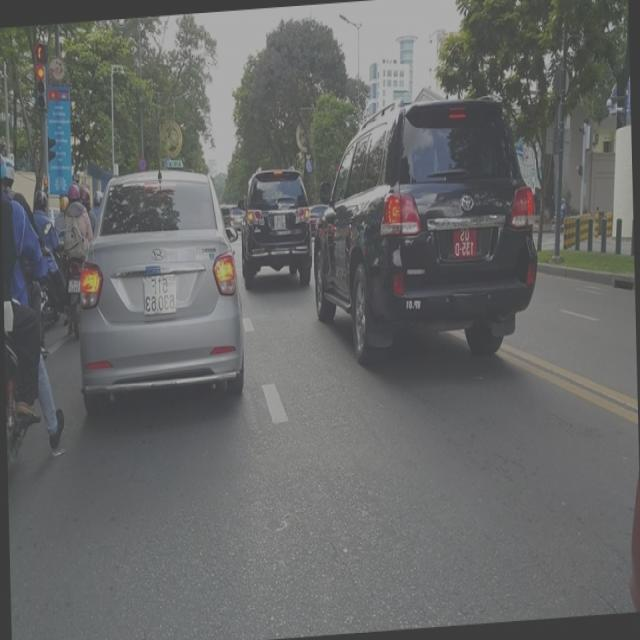bien_do: (451, 226, 478, 258)
bien_trang: (140, 273, 177, 315)
